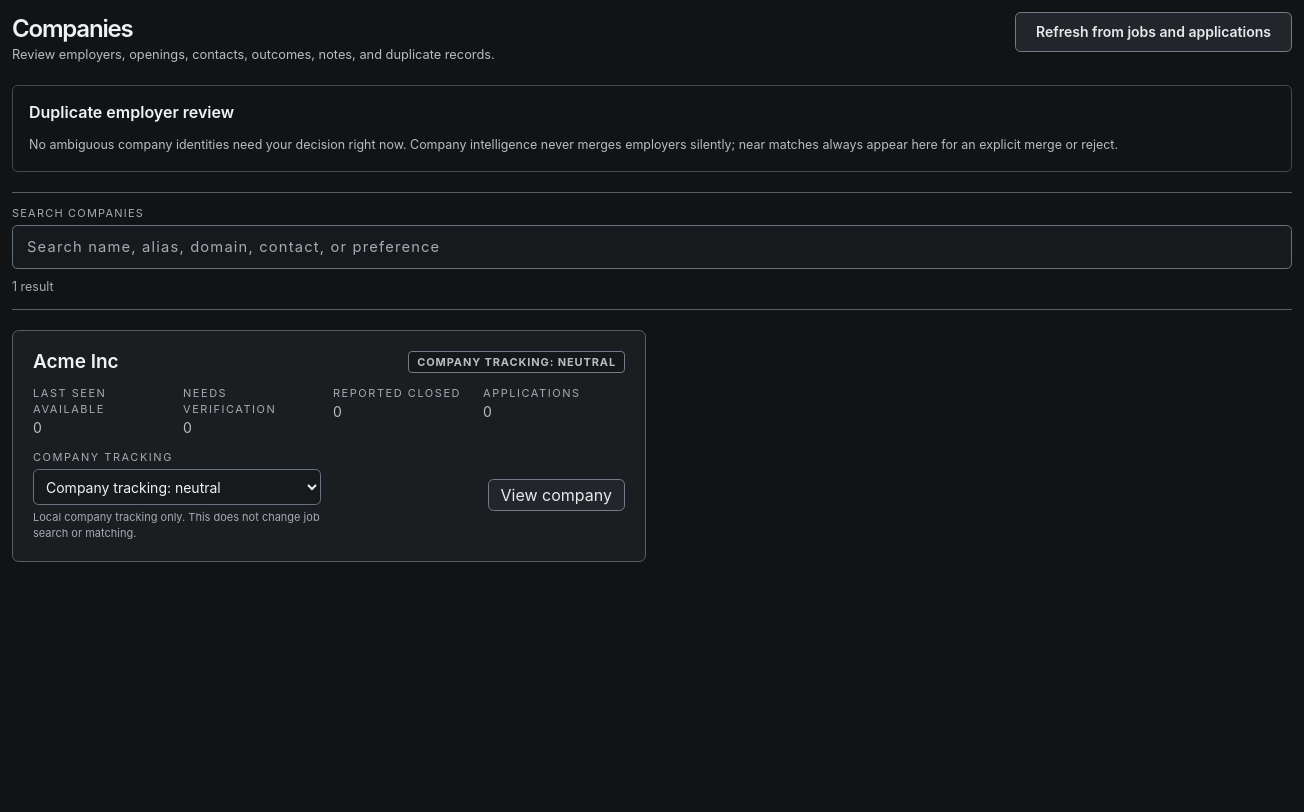
Test: CompaniesScreen › shows a no-match state without changing selection or filters
This screenshot has width=1304, height=812.
Type "zzz no such company" into the search field at (652, 247), box [12,225,1292,269]
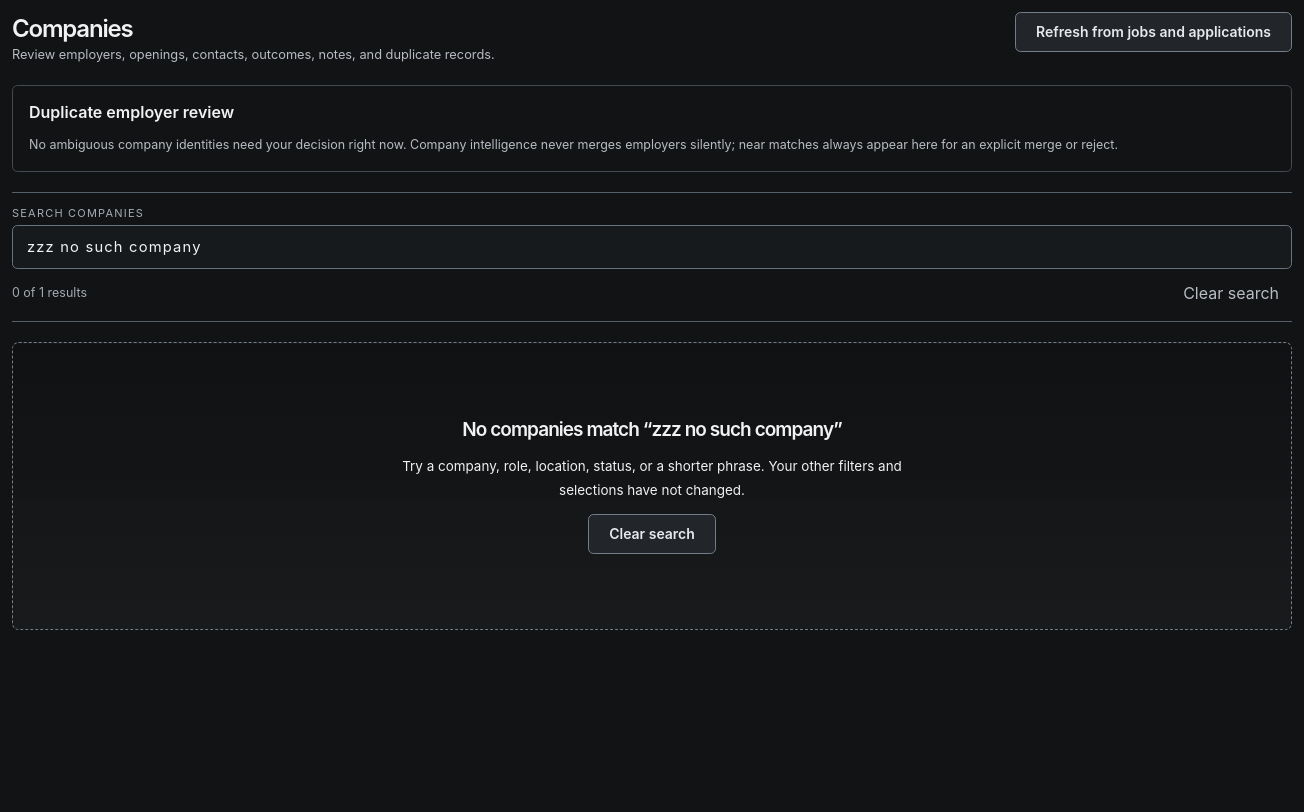
Now the heading "No companies match “zzz no such company”" is shown, box [462,418,842,441]
